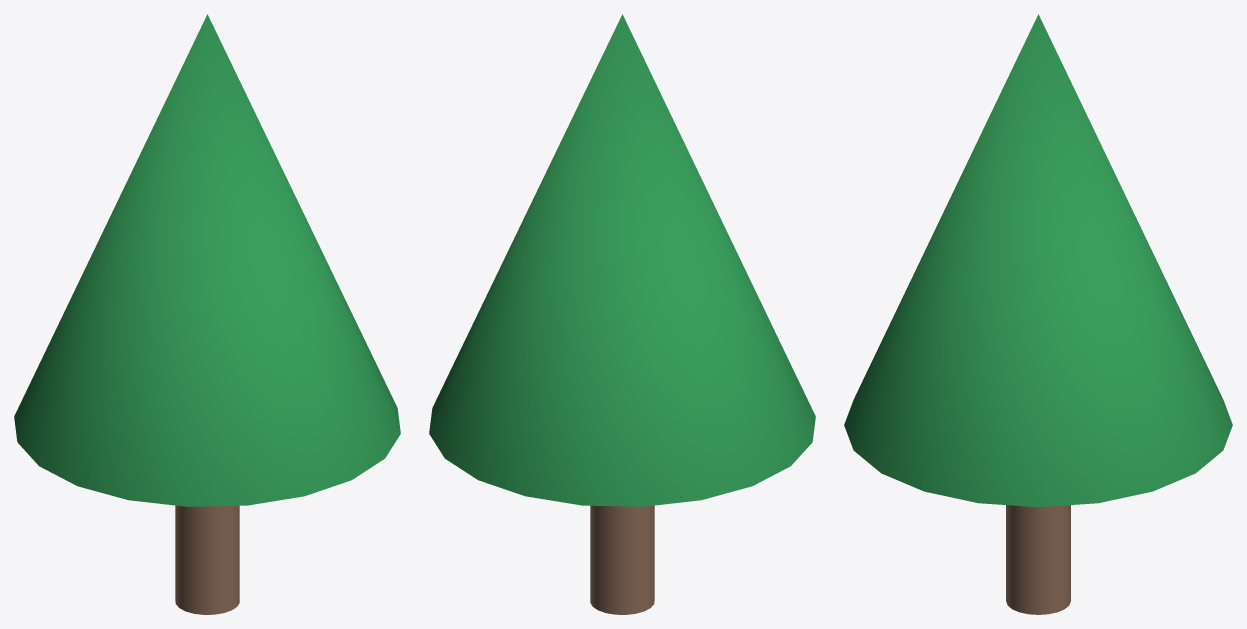
The model's file is Pine.fbx.
3 views of the same model, side by side, from view 1: azimuth 30°, elevation 25°; view 2: azimuth 150°, elevation 25°; view 3: azimuth 270°, elevation 25° (orthographic).
Visible parts, largest first — view 1: Cone, Pole; view 2: Cone, Pole; view 3: Cone, Pole.
Part boxes in pixels (bbox=[...]): Cone: bbox=[14, 14, 400, 506]; Pole: bbox=[175, 505, 239, 614]; Cone: bbox=[429, 14, 815, 506]; Pole: bbox=[590, 505, 654, 614]; Cone: bbox=[844, 14, 1232, 507]; Pole: bbox=[1006, 505, 1070, 614].
Bounding box in the file's own units: 6 × 10 × 6.
